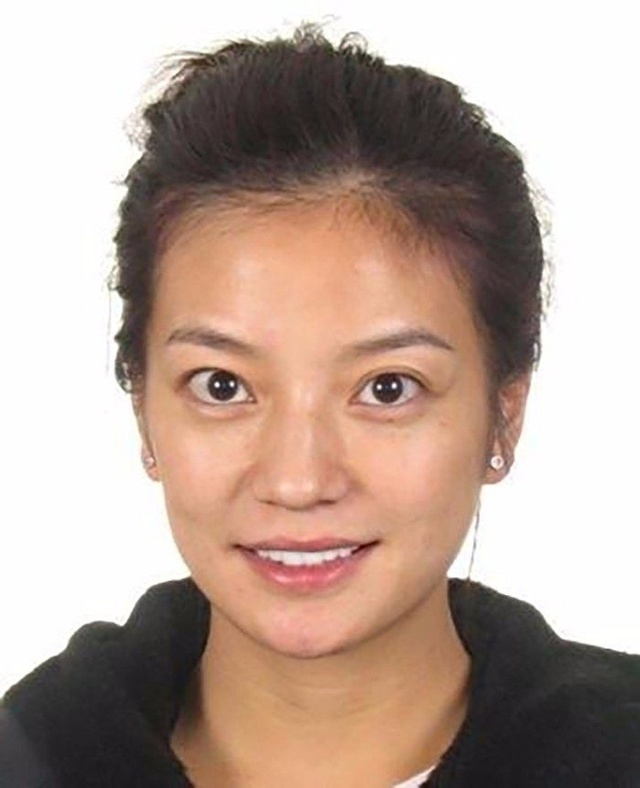unmask: (152, 237, 468, 635)
